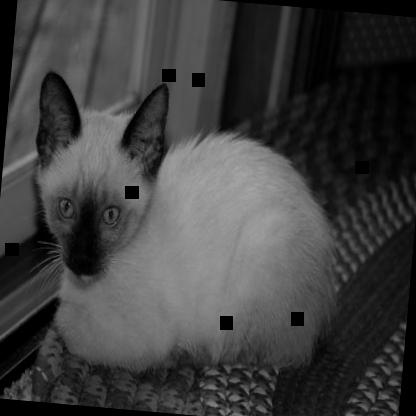cat: (17, 70, 348, 384)
